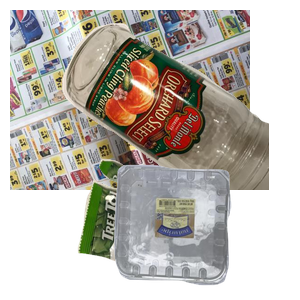glass: (60, 21, 300, 201)
paper: (10, 10, 250, 190)
plastic: (112, 162, 300, 300)
trash: (75, 156, 244, 300)
